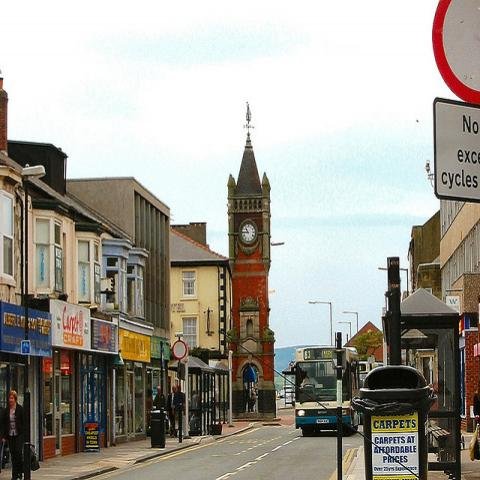bus: (295, 348, 360, 438)
